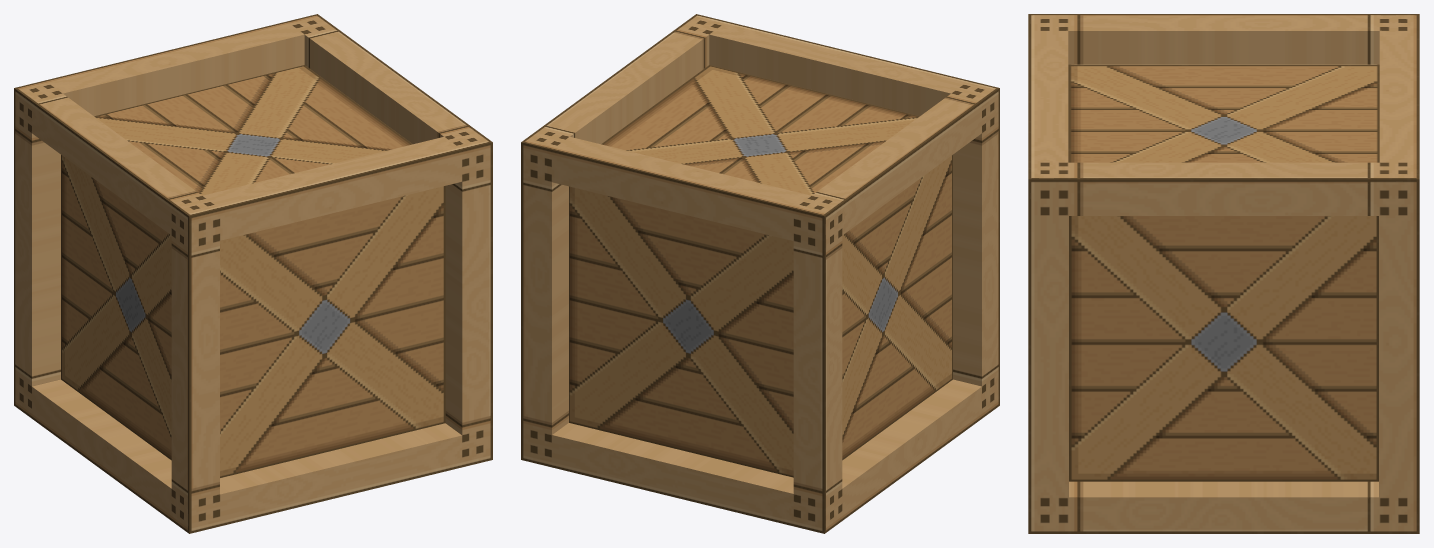
3 renders of one model, left to right at view 1: azimuth 30°, elevation 25°; view 2: azimuth 150°, elevation 25°; view 3: azimuth 270°, elevation 25°, orthographic. The views are drawn at different scales.
Visible parts, largest first — view 1: Cube; view 2: Cube; view 3: Cube.
Boxes of the visible parts, x1=… form: Cube: x1=14, y1=14, x2=492, y2=533; Cube: x1=521, y1=14, x2=999, y2=533; Cube: x1=1028, y1=14, x2=1419, y2=533.
Size of the model in its own units: 2 by 2 by 2.
1 material, 1 textured.
